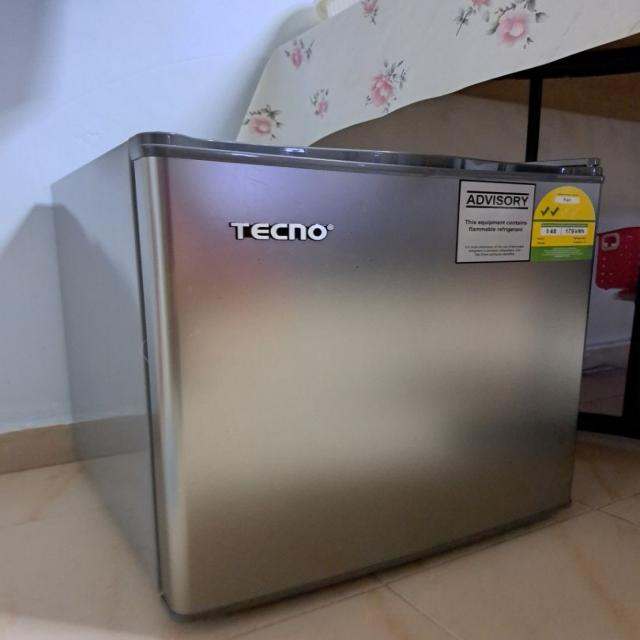refrigerator: (130, 131, 601, 615)
